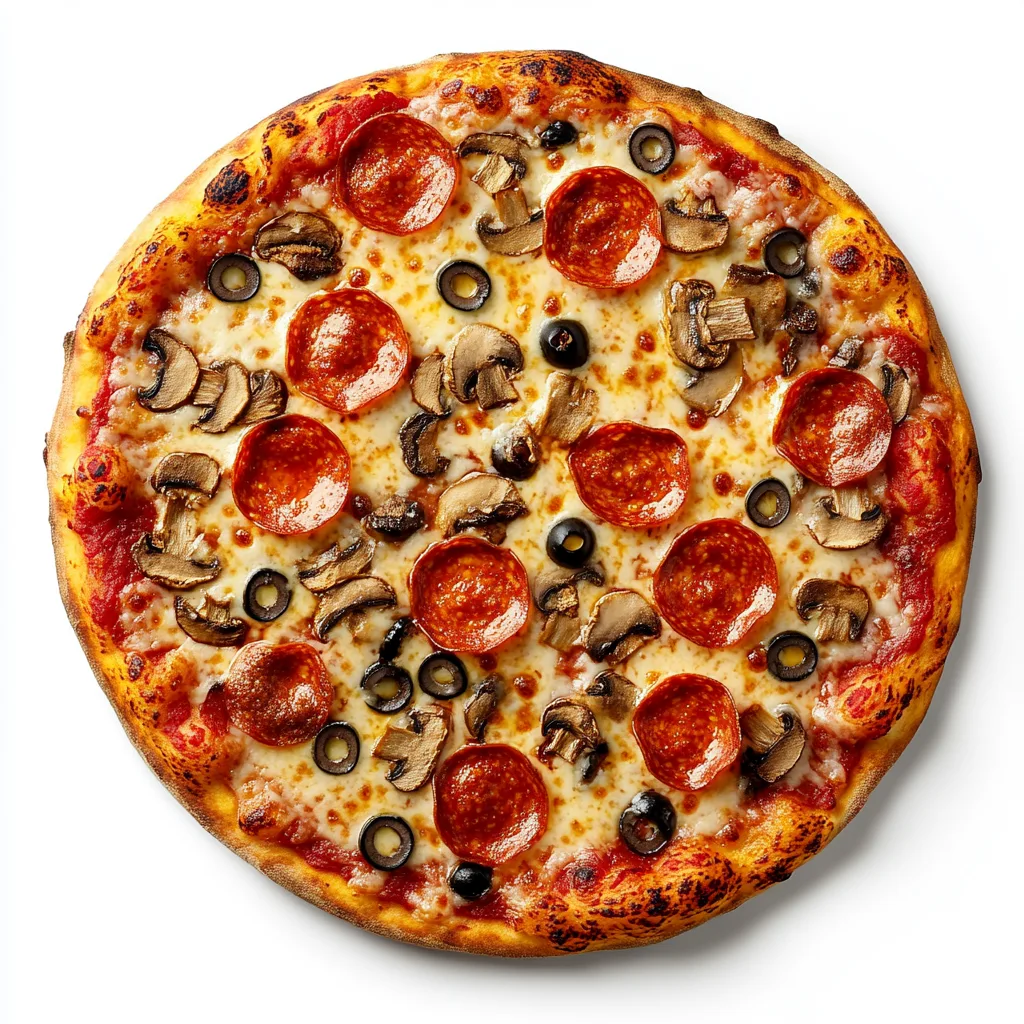Olives: (613, 792, 681, 857), (486, 419, 543, 484), (435, 257, 495, 311), (238, 568, 295, 622), (414, 646, 470, 700), (359, 660, 416, 713), (362, 814, 414, 872), (206, 251, 262, 303), (765, 632, 822, 683), (743, 472, 794, 529), (311, 722, 359, 776), (540, 321, 594, 368), (446, 853, 499, 900), (760, 227, 810, 276), (627, 124, 676, 173), (549, 519, 595, 565), (537, 114, 579, 149)
Pepperoni: (281, 286, 414, 414), (654, 516, 781, 649), (227, 411, 351, 538), (430, 741, 551, 868), (330, 116, 460, 233), (540, 168, 664, 289), (408, 532, 525, 657), (772, 373, 891, 487), (627, 675, 737, 791), (570, 416, 687, 525), (221, 637, 335, 741)
Pizza: (51, 49, 983, 959)
